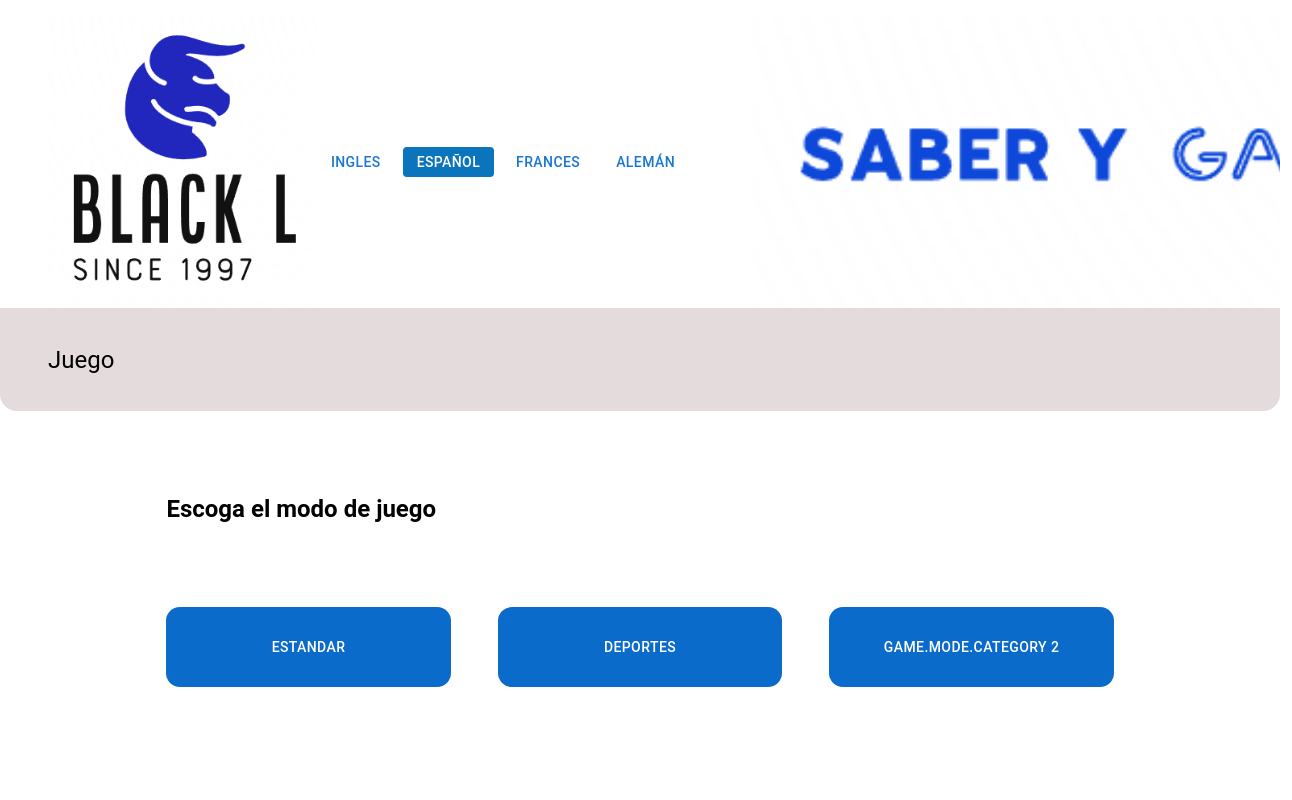
Test case: Game › starts standard game
Check: the element with test id "syg-game-content-start-game" is shown, box top-left (166, 495), bottom-right (1114, 687)
Check: the element with test id "syg-game-content-start-game-options" is shown, box top-left (166, 607), bottom-right (1114, 729)
Note: Iniciar el juego
Step 1. Click the button with test id "syg-game-content-start-game-standard-button" → coordinates (308, 647), box top-left (166, 607), bottom-right (451, 687)
(page scrolled)
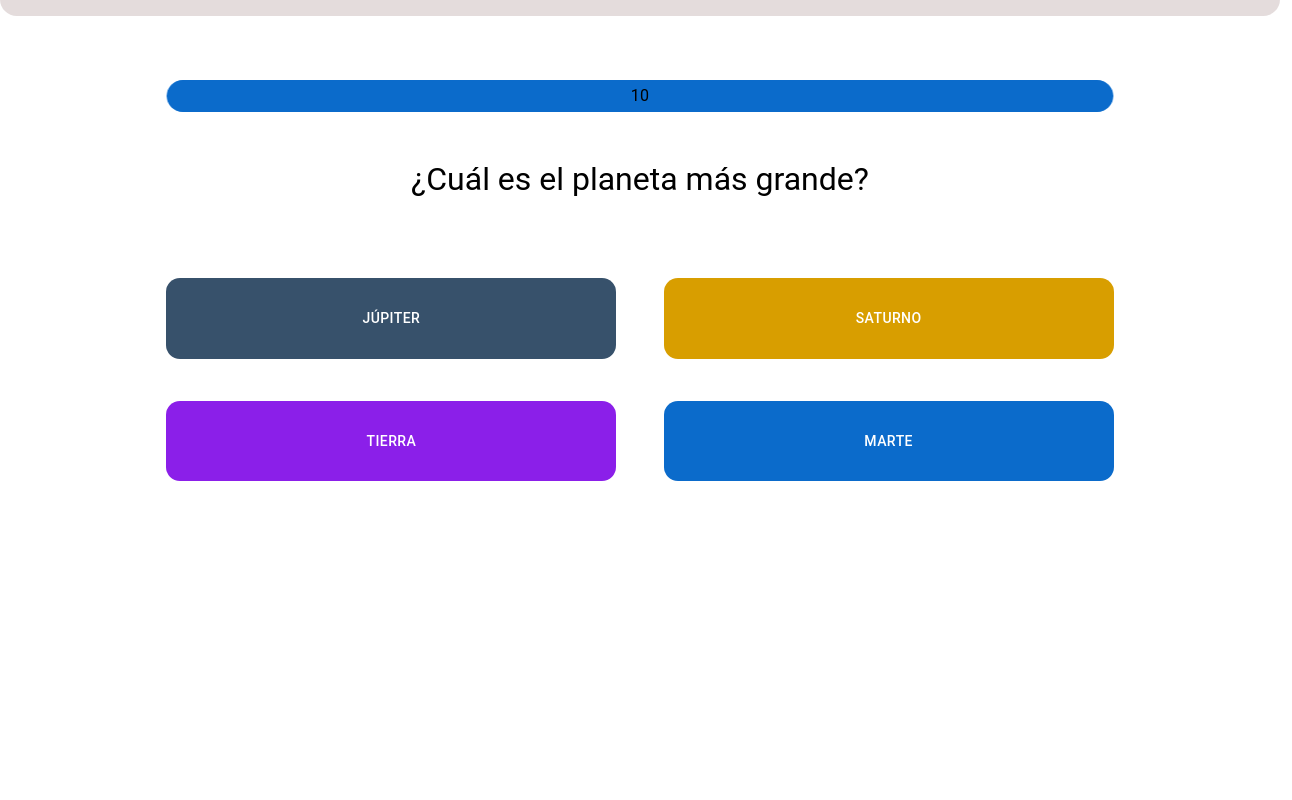
Check: the element with test id "syg-game-content-question-game" is shown, box top-left (166, 80), bottom-right (1114, 481)
Check: the element with test id "syg-game-content-question-time-limit" is shown, box top-left (166, 80), bottom-right (1114, 112)
Check: the text "¿Cuál es el planeta más grande?" is shown, box top-left (411, 160), bottom-right (869, 198)
